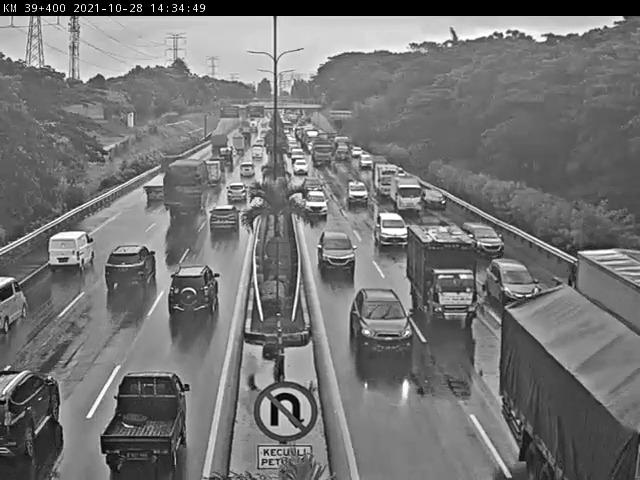big truck: (499, 285, 640, 480), (575, 246, 640, 334), (162, 157, 213, 219)
car: (99, 370, 190, 474), (0, 361, 66, 462), (351, 289, 414, 363), (165, 263, 221, 323), (485, 254, 547, 306), (100, 242, 157, 296), (42, 228, 98, 274), (0, 273, 31, 337), (372, 206, 412, 251), (314, 230, 355, 273), (464, 222, 503, 258), (209, 202, 242, 238), (298, 187, 330, 221), (418, 183, 449, 212), (344, 180, 371, 208), (224, 180, 252, 206), (235, 162, 258, 184), (291, 157, 313, 179)
small truck: (406, 228, 476, 324), (144, 153, 177, 206), (389, 174, 426, 214), (369, 161, 404, 195), (198, 162, 221, 191)
